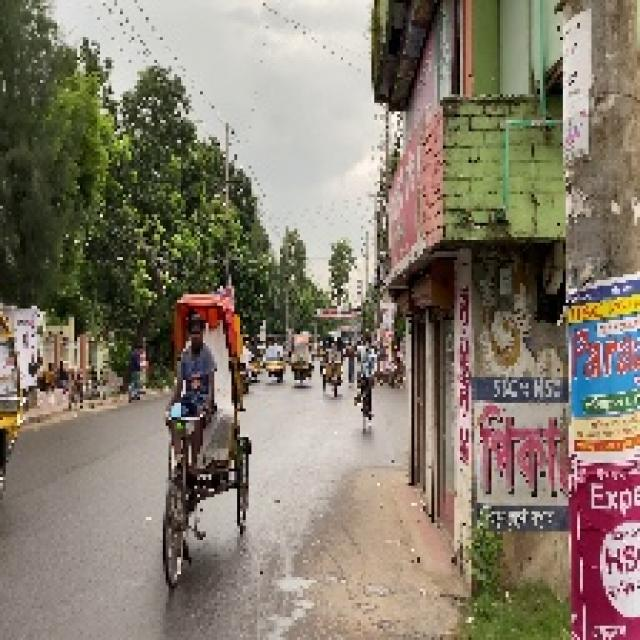rickshaw: (148, 289, 261, 579), (321, 332, 346, 400), (290, 331, 315, 391), (265, 330, 287, 388)
